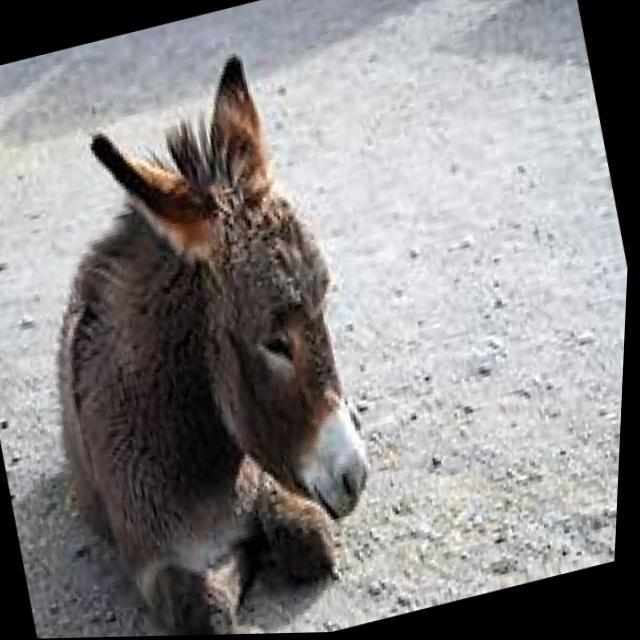Donkey: (0, 32, 420, 640)
